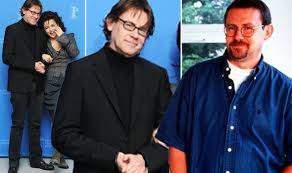middle_eastern_Female: (42, 15, 60, 40)
